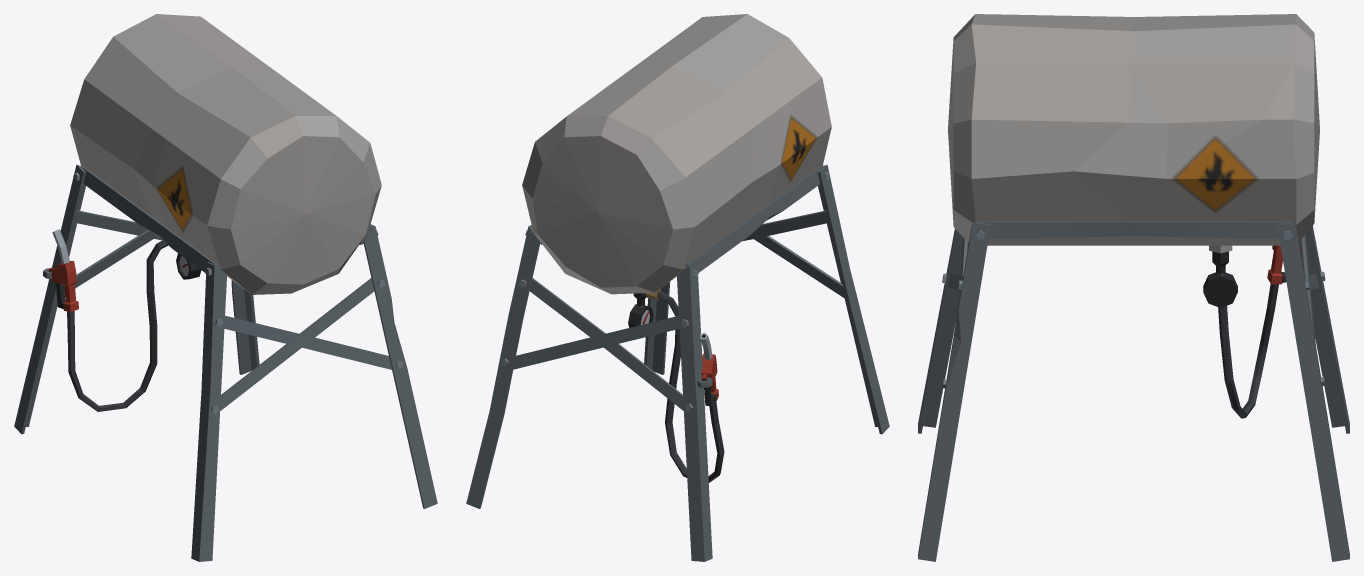
File: SM_Prop_Fuel_Tank_01.fbx
The picture shows the model from 3 angles, left to right: view 1: azimuth 30°, elevation 25°; view 2: azimuth 150°, elevation 25°; view 3: azimuth 270°, elevation 25°; orthographic projection. The views are drawn at different scales.
Parts seen in each view (by area): view 1: SM_Prop_Fuel_Tank_01; view 2: SM_Prop_Fuel_Tank_01; view 3: SM_Prop_Fuel_Tank_01.
Part boxes in pixels (left/top/right/bottom): SM_Prop_Fuel_Tank_01: left=14, top=14, right=437, bottom=561; SM_Prop_Fuel_Tank_01: left=466, top=14, right=889, bottom=561; SM_Prop_Fuel_Tank_01: left=918, top=14, right=1349, bottom=561.
Size of the model in its own units: 179 by 288 by 240.
